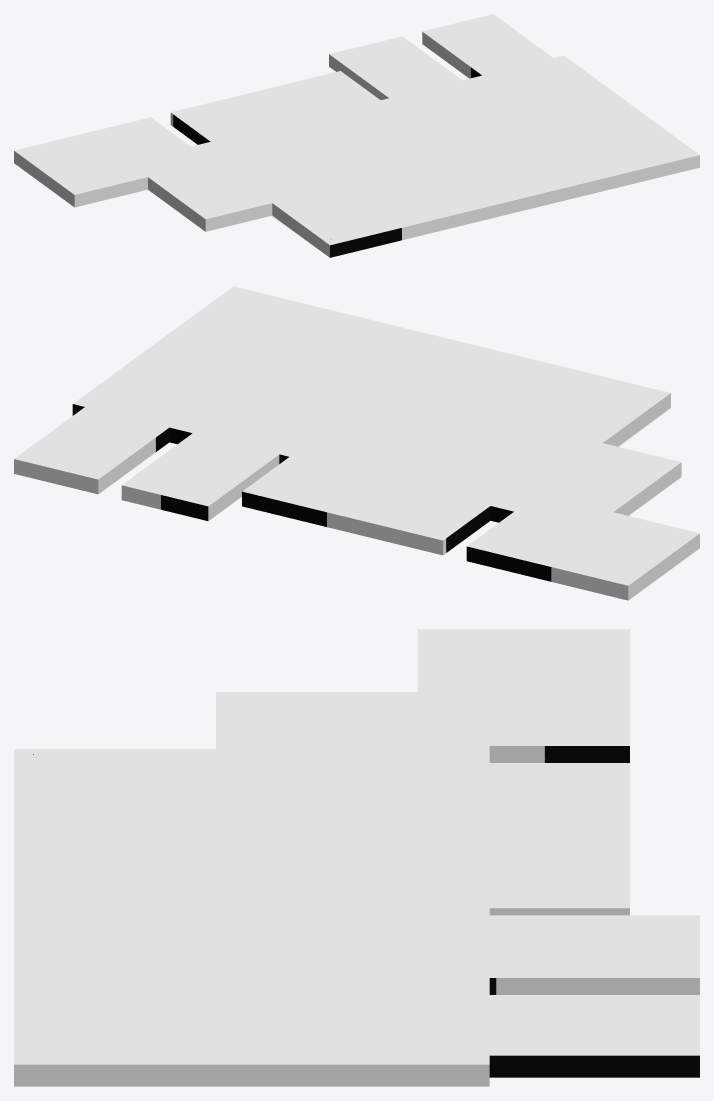
Rendered from Ceiling.fbx.
3 views of the same model, one above another, from view 1: azimuth 30°, elevation 25°; view 2: azimuth 150°, elevation 25°; view 3: azimuth 270°, elevation 25° (orthographic). The views are drawn at different scales.
Visible parts, largest first — view 1: Walls.002; view 2: Walls.002; view 3: Walls.002.
Part boxes in pixels (x1=…): Walls.002: x1=14, y1=14, x2=699, y2=257; Walls.002: x1=14, y1=286, x2=699, y2=600; Walls.002: x1=14, y1=629, x2=699, y2=1086.
Size of the model in its own units: 765 by 18 by 510.
